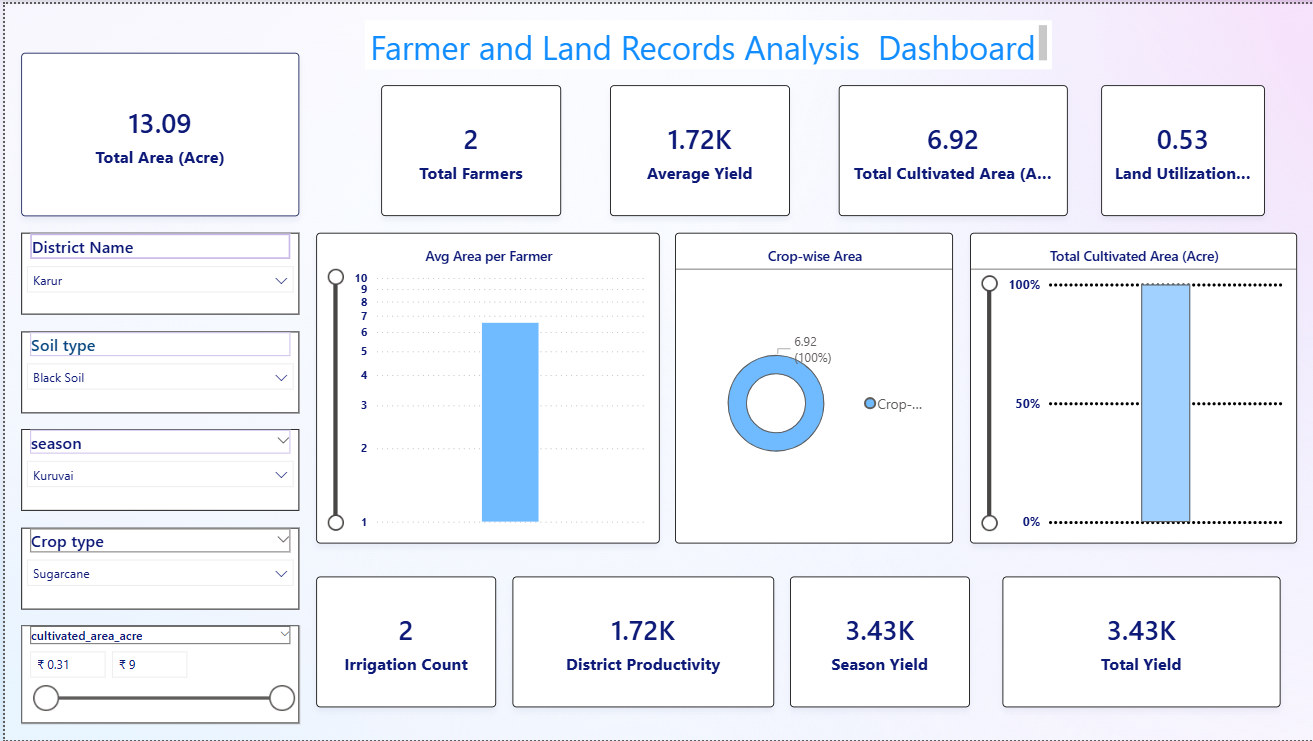

What the dashboard file says about the page in this screenshot:
{"tool":"powerbi","page":{"name":"Page 1","canvas":[1280,720],"ordinal":0},"visuals":[{"type":"card","fields":{"Values":["farmer_records.District Productivity"]},"box":[496,560,256,128],"z":0},{"type":"clusteredColumnChart","fields":{"Y":["farmer_records.Avg Area per Farmer"]},"box":[304,224,336,304],"z":1000},{"type":"card","fields":{"Values":["farmer_records.Total Farmers"]},"box":[368,80,176,128],"z":2000},{"type":"card","fields":{"Values":["farmer_records.Total Cultivated Area (Acre)"]},"box":[816,80,224,128],"z":3000},{"type":"card","fields":{"Values":["farmer_records.Land Utilization %"]},"box":[1072,80,160,128],"z":4000},{"type":"card","fields":{"Values":["farmer_records.Total Area (Acre)"]},"box":[16,48,272,160],"z":5000},{"type":"card","fields":{"Values":["farmer_records.Total Yield"]},"box":[976,560,272,128],"z":6000},{"type":"card","fields":{"Values":["farmer_records.Average Yield"]},"box":[592,80,176,128],"z":7000},{"type":"card","fields":{"Values":["farmer_records.Season Yield"]},"box":[768,560,176,128],"z":8000},{"type":"card","fields":{"Values":["farmer_records.Irrigation Count"]},"box":[304,560,176,128],"z":9000},{"type":"donutChart","fields":{"Y":["farmer_records.Crop-wise Area"]},"box":[656,224,272,304],"z":10000},{"type":"hundredPercentStackedColumnChart","fields":{"Y":["farmer_records.Total Cultivated Area (Acre)"]},"box":[944,224,320,304],"z":11000},{"type":"slicer","fields":{"Values":["farmer_records.district_name"]},"box":[16,224,272,80],"z":12000},{"type":"slicer","fields":{"Values":["farmer_records.soil_type"]},"box":[16,320,272,80],"z":13000},{"type":"slicer","fields":{"Values":["farmer_records.season"]},"box":[16,416,272,80],"z":14000},{"type":"slicer","fields":{"Values":["farmer_records.crop_type"]},"box":[16,512,272,80],"z":15000},{"type":"slicer","fields":{"Values":["farmer_records.cultivated_area_acre"]},"box":[16,608,272,96],"z":16000},{"type":"textbox","box":[352,16,672,48],"z":17000}]}

Visuals, with their boxes in screenshot pixels (x1, y1, x2, y2), scaled from the page's 1280x720 canvas onto the 1313x741 screenshot:
card - farmer_records.District Productivity: x1=509 y1=576 x2=771 y2=708
clusteredColumnChart - farmer_records.Avg Area per Farmer: x1=312 y1=231 x2=656 y2=543
card - farmer_records.Total Farmers: x1=377 y1=82 x2=558 y2=214
card - farmer_records.Total Cultivated Area (Acre): x1=837 y1=82 x2=1067 y2=214
card - farmer_records.Land Utilization %: x1=1100 y1=82 x2=1264 y2=214
card - farmer_records.Total Area (Acre): x1=16 y1=49 x2=295 y2=214
card - farmer_records.Total Yield: x1=1001 y1=576 x2=1280 y2=708
card - farmer_records.Average Yield: x1=607 y1=82 x2=788 y2=214
card - farmer_records.Season Yield: x1=788 y1=576 x2=968 y2=708
card - farmer_records.Irrigation Count: x1=312 y1=576 x2=492 y2=708
donutChart - farmer_records.Crop-wise Area: x1=673 y1=231 x2=952 y2=543
hundredPercentStackedColumnChart - farmer_records.Total Cultivated Area (Acre): x1=968 y1=231 x2=1297 y2=543
slicer - farmer_records.district_name: x1=16 y1=231 x2=295 y2=313
slicer - farmer_records.soil_type: x1=16 y1=329 x2=295 y2=412
slicer - farmer_records.season: x1=16 y1=428 x2=295 y2=510
slicer - farmer_records.crop_type: x1=16 y1=527 x2=295 y2=609
slicer - farmer_records.cultivated_area_acre: x1=16 y1=626 x2=295 y2=725
textbox: x1=361 y1=16 x2=1050 y2=66
